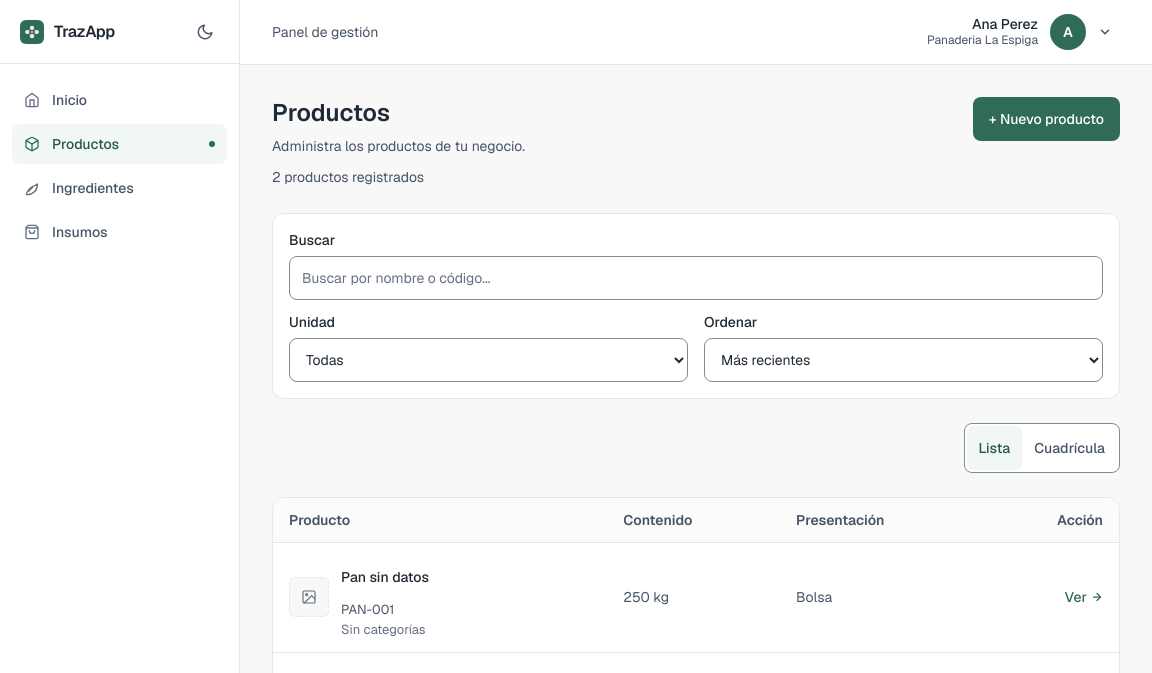
Test: Listados: filtros con chips › muestra chips de filtros activos y permite quitarlos de a uno
Expected: the heading "Productos" is shown, [272, 97, 390, 129]
Select "kg" in the dropdown named "Filtrar por unidad de medida". click: [488, 360]
box: [289, 338, 688, 382]
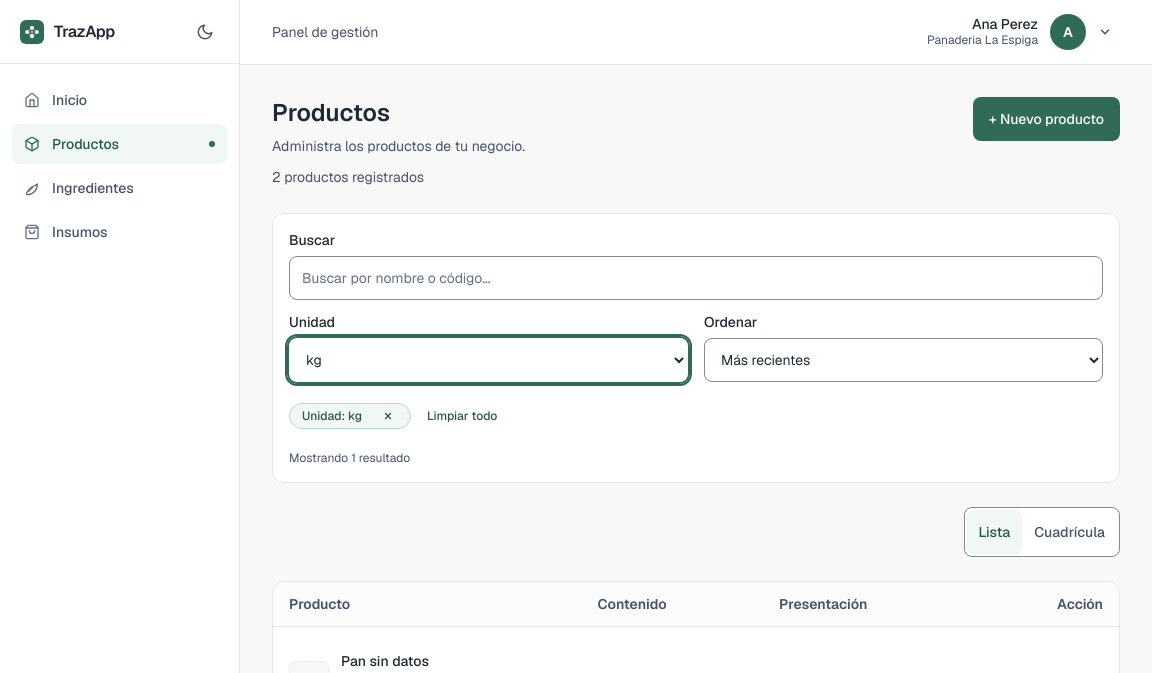
Type "pan" into the search field named "Buscar por nombre o código". click: [696, 278]
box: [289, 256, 1103, 300]
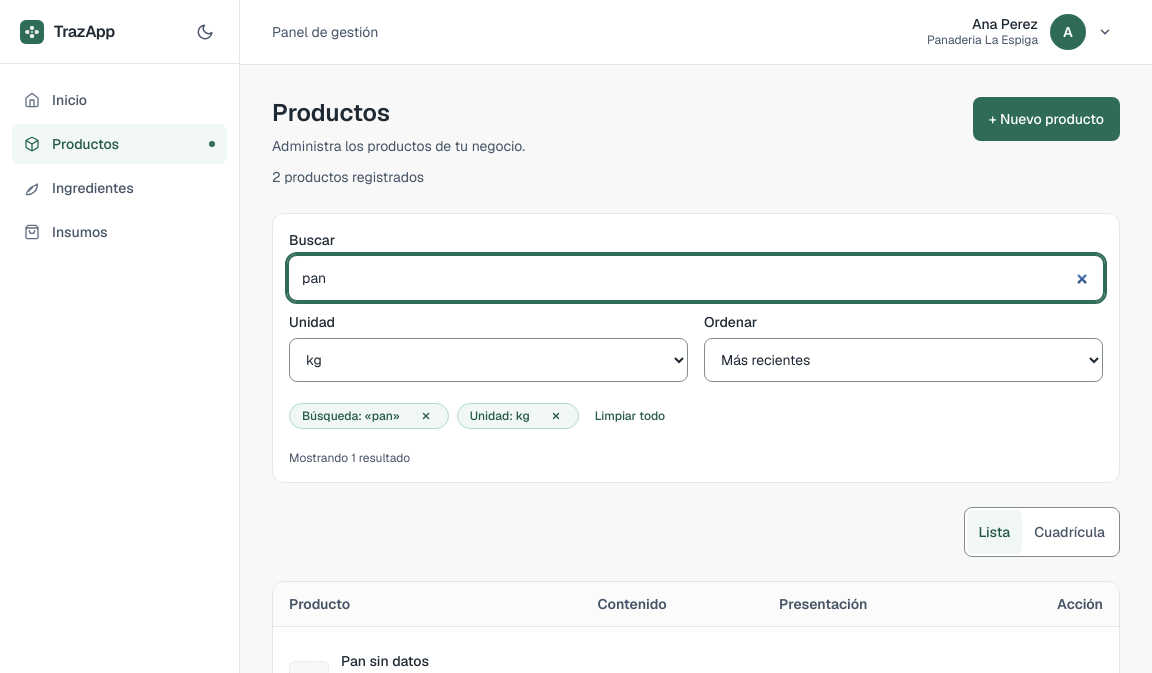
Now the text "Unidad: kg" is shown, box [457, 402, 579, 428]
Now the text "Búsqueda: «pan»" is shown, box [289, 402, 449, 428]
Click the button named "Quitar filtro: Unidad: kg". click: [556, 416]
box: [534, 394, 578, 438]
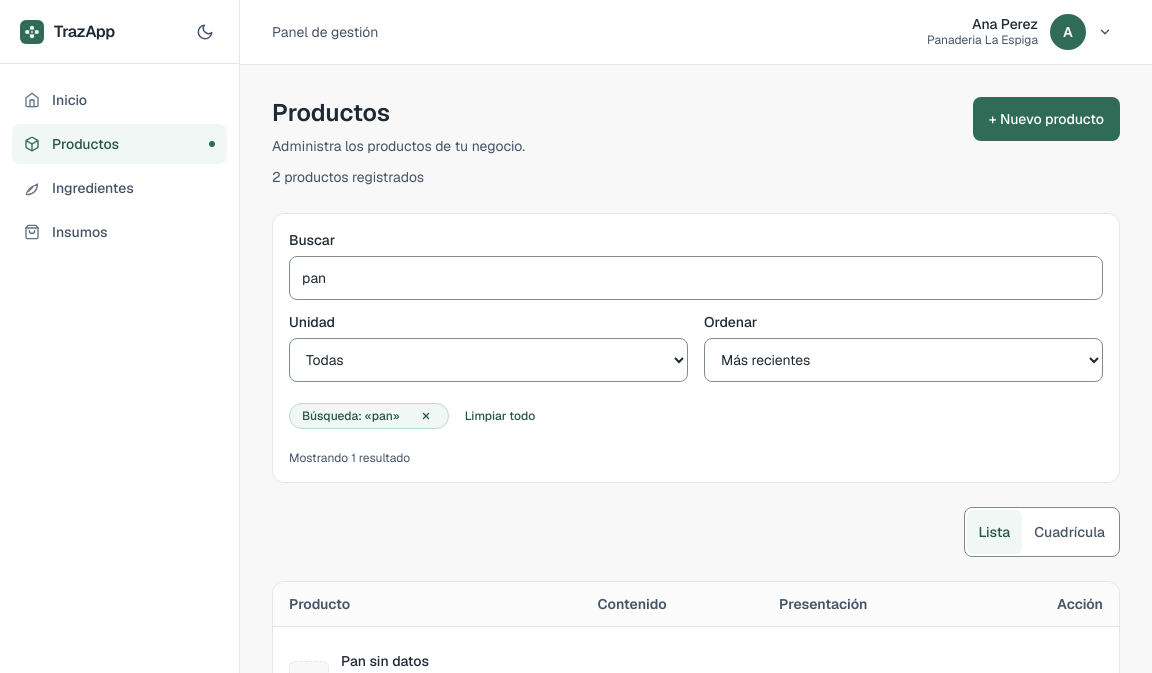
Click the button "Limpiar todo". click: [500, 416]
box: [457, 394, 543, 438]
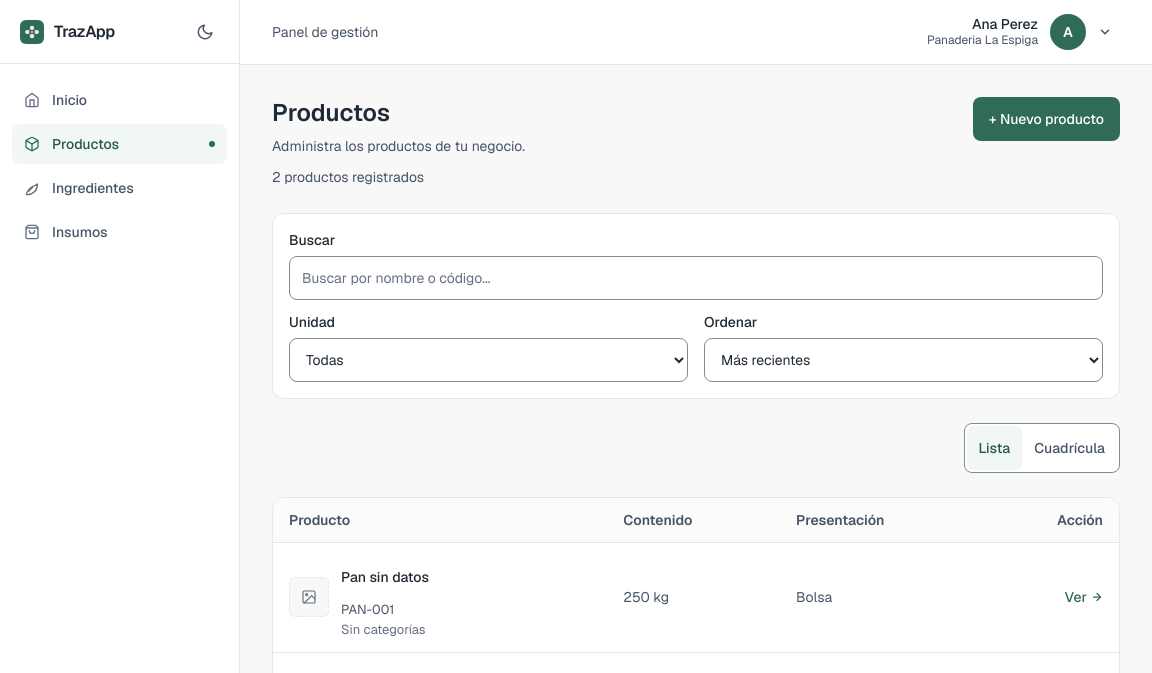
Now the search field named "Buscar por nombre o código" is empty, box [289, 256, 1103, 300]
